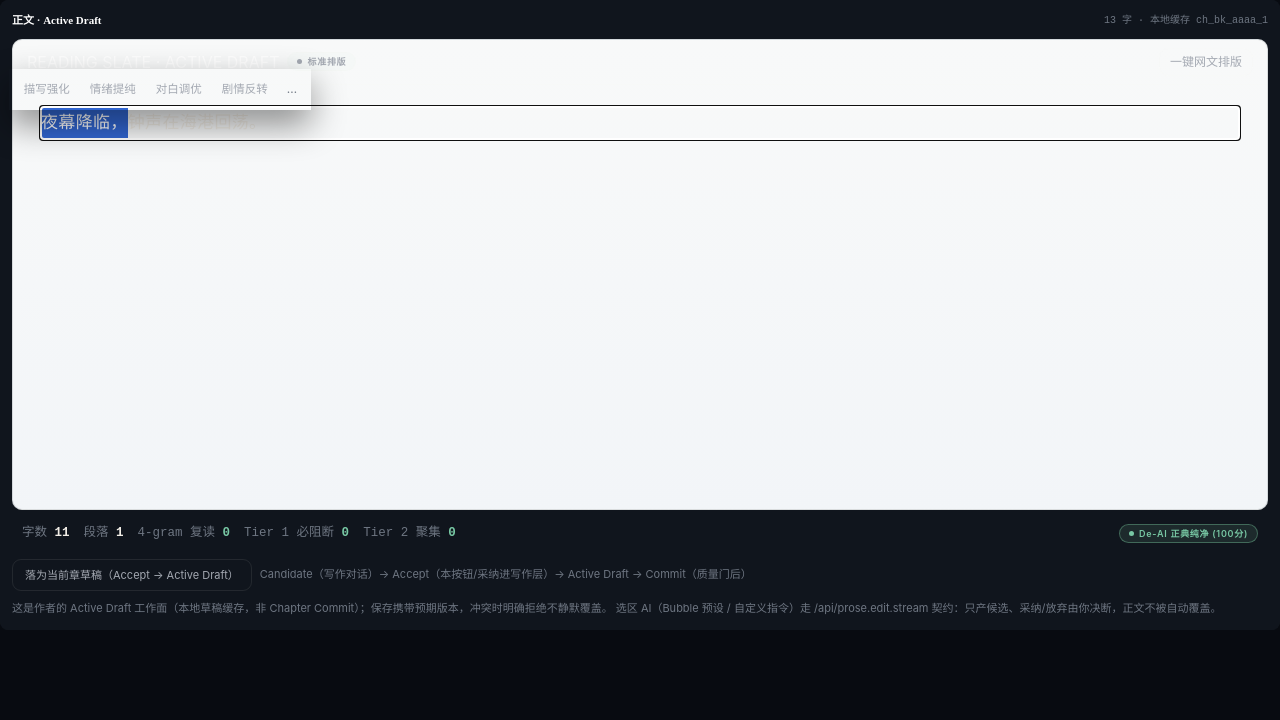
Test case: 行内 AI 编辑（/api/prose.edit.stream 接线） › Bubble 预设 → 契约请求（action/selectedText/selectionRange 一致）→ 流式候选 → 双栏 diff + FR-3.3 质检徽标
# 唤出 Bubble 后点「描写强化」预设（title 与 FloatingBubbleMenu 一致）
Click the button titled "增强五感细节": (47, 90) [15, 78, 79, 101]
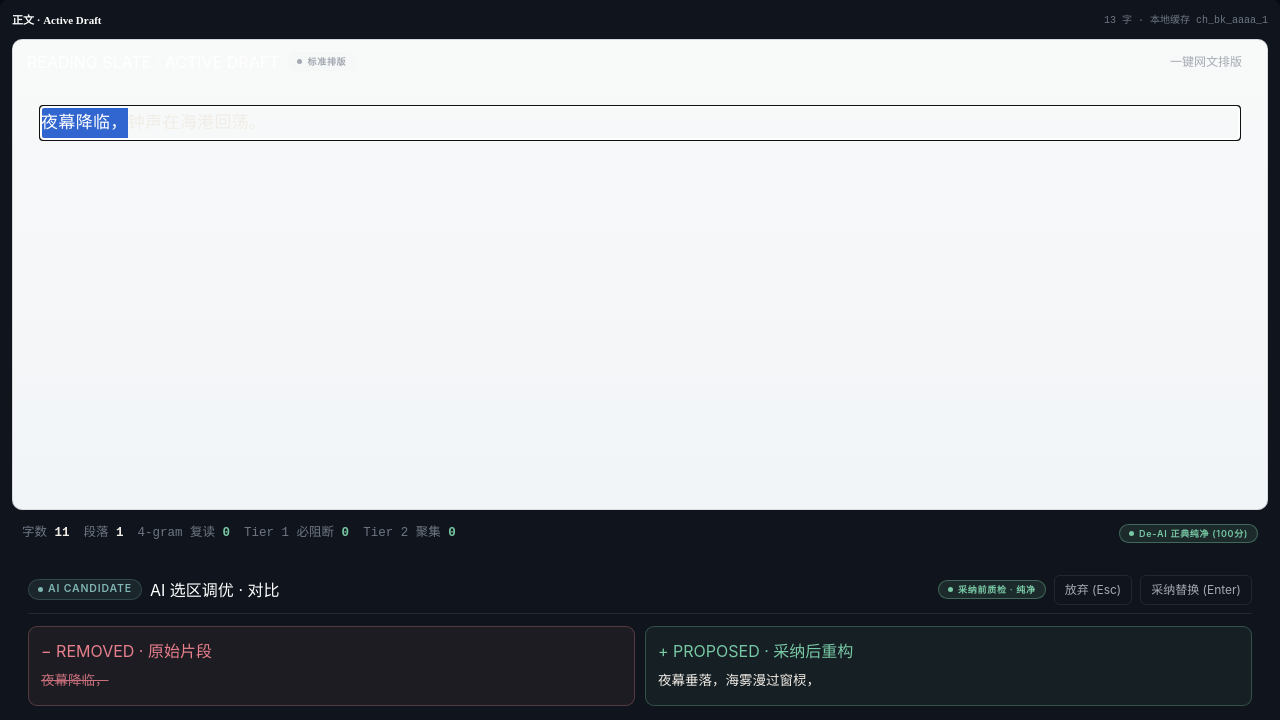
expect the field reads "夜幕降临，钟声在海港回荡。": met, box [41, 112, 266, 132]
expect the element with test id "inline-diff-viewer" shows "海雾漫过窗棂": met, box [658, 672, 820, 688]
expect the text "采纳前质检 · 纯净" is shown: met, box [938, 580, 1046, 599]
